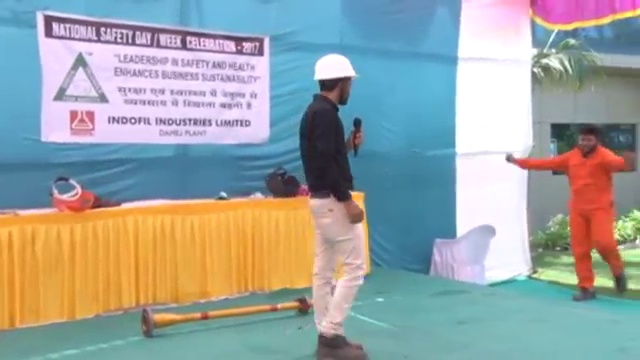helmet: (311, 51, 360, 83)
helmet_off: (576, 126, 600, 156)
helmet_on: (310, 52, 361, 105)
person: (504, 121, 640, 304), (296, 51, 369, 360)
